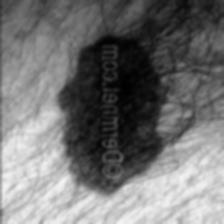Potentially Malignant Skin Tumors: (56, 40, 95, 180), (124, 38, 162, 173)
